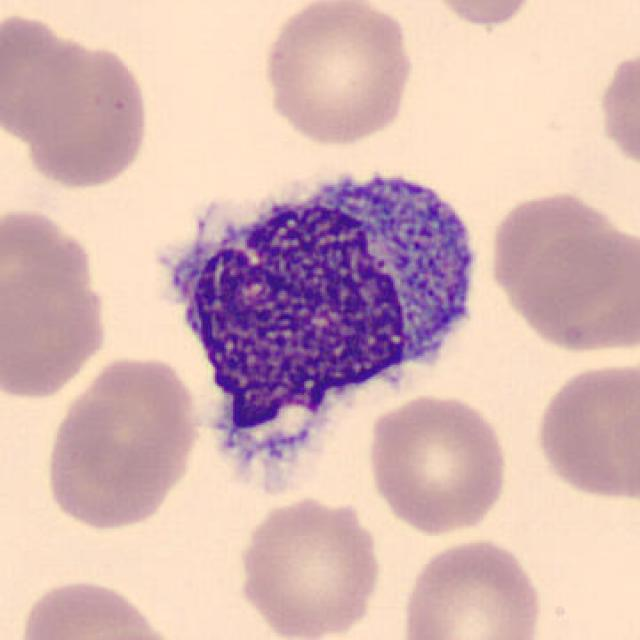Monocyte: (142, 150, 486, 504)
RBC: (42, 349, 204, 520), (258, 0, 418, 148), (231, 492, 386, 640), (363, 390, 512, 538), (16, 34, 155, 192), (486, 183, 630, 321), (508, 226, 638, 358), (530, 356, 638, 504), (396, 534, 546, 640), (0, 263, 112, 402), (0, 203, 100, 335), (0, 9, 96, 144), (14, 575, 174, 640), (594, 42, 638, 178), (420, 0, 544, 30)
